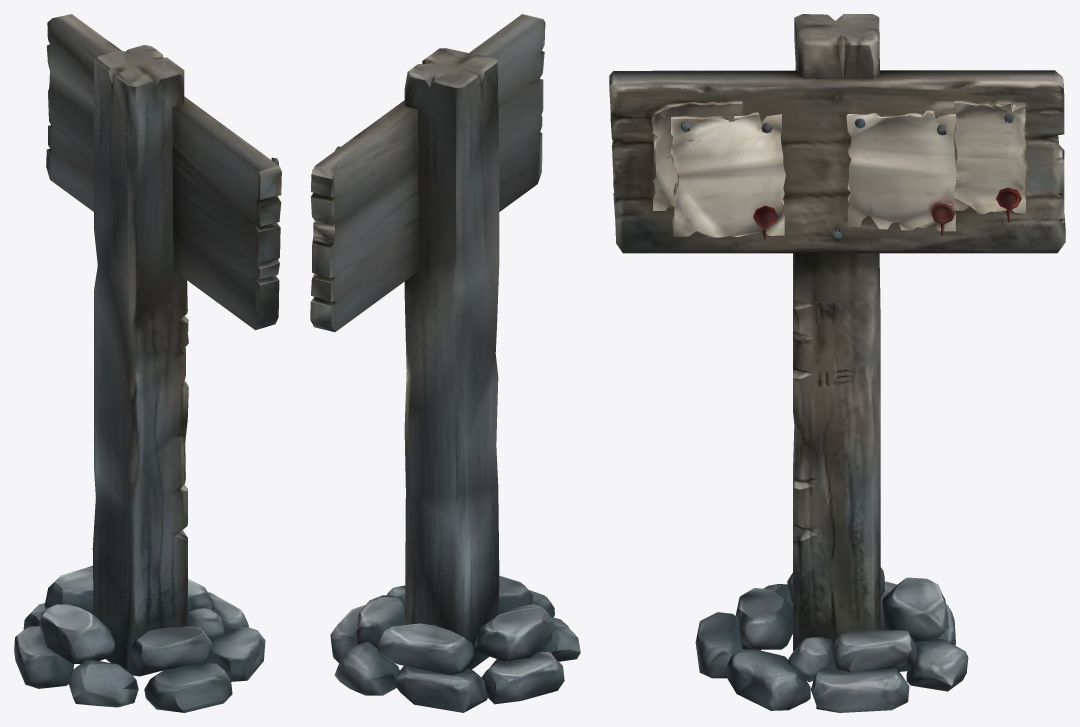
The model's file is obj_notice_post.glb.
The picture shows the model from 3 angles, left to right: view 1: azimuth 30°, elevation 25°; view 2: azimuth 150°, elevation 25°; view 3: azimuth 270°, elevation 25°; orthographic projection. The views are drawn at different scales.
Visible parts, largest first — view 1: model; view 2: model; view 3: model.
Boxes of the visible parts, bbox=[...] form: model: bbox=[14, 14, 281, 712]; model: bbox=[310, 14, 580, 712]; model: bbox=[609, 14, 1065, 712].
Bounding box in the file's own units: 0.3816 × 1 × 0.6517.
Materials: 1 (1 with a texture image).
